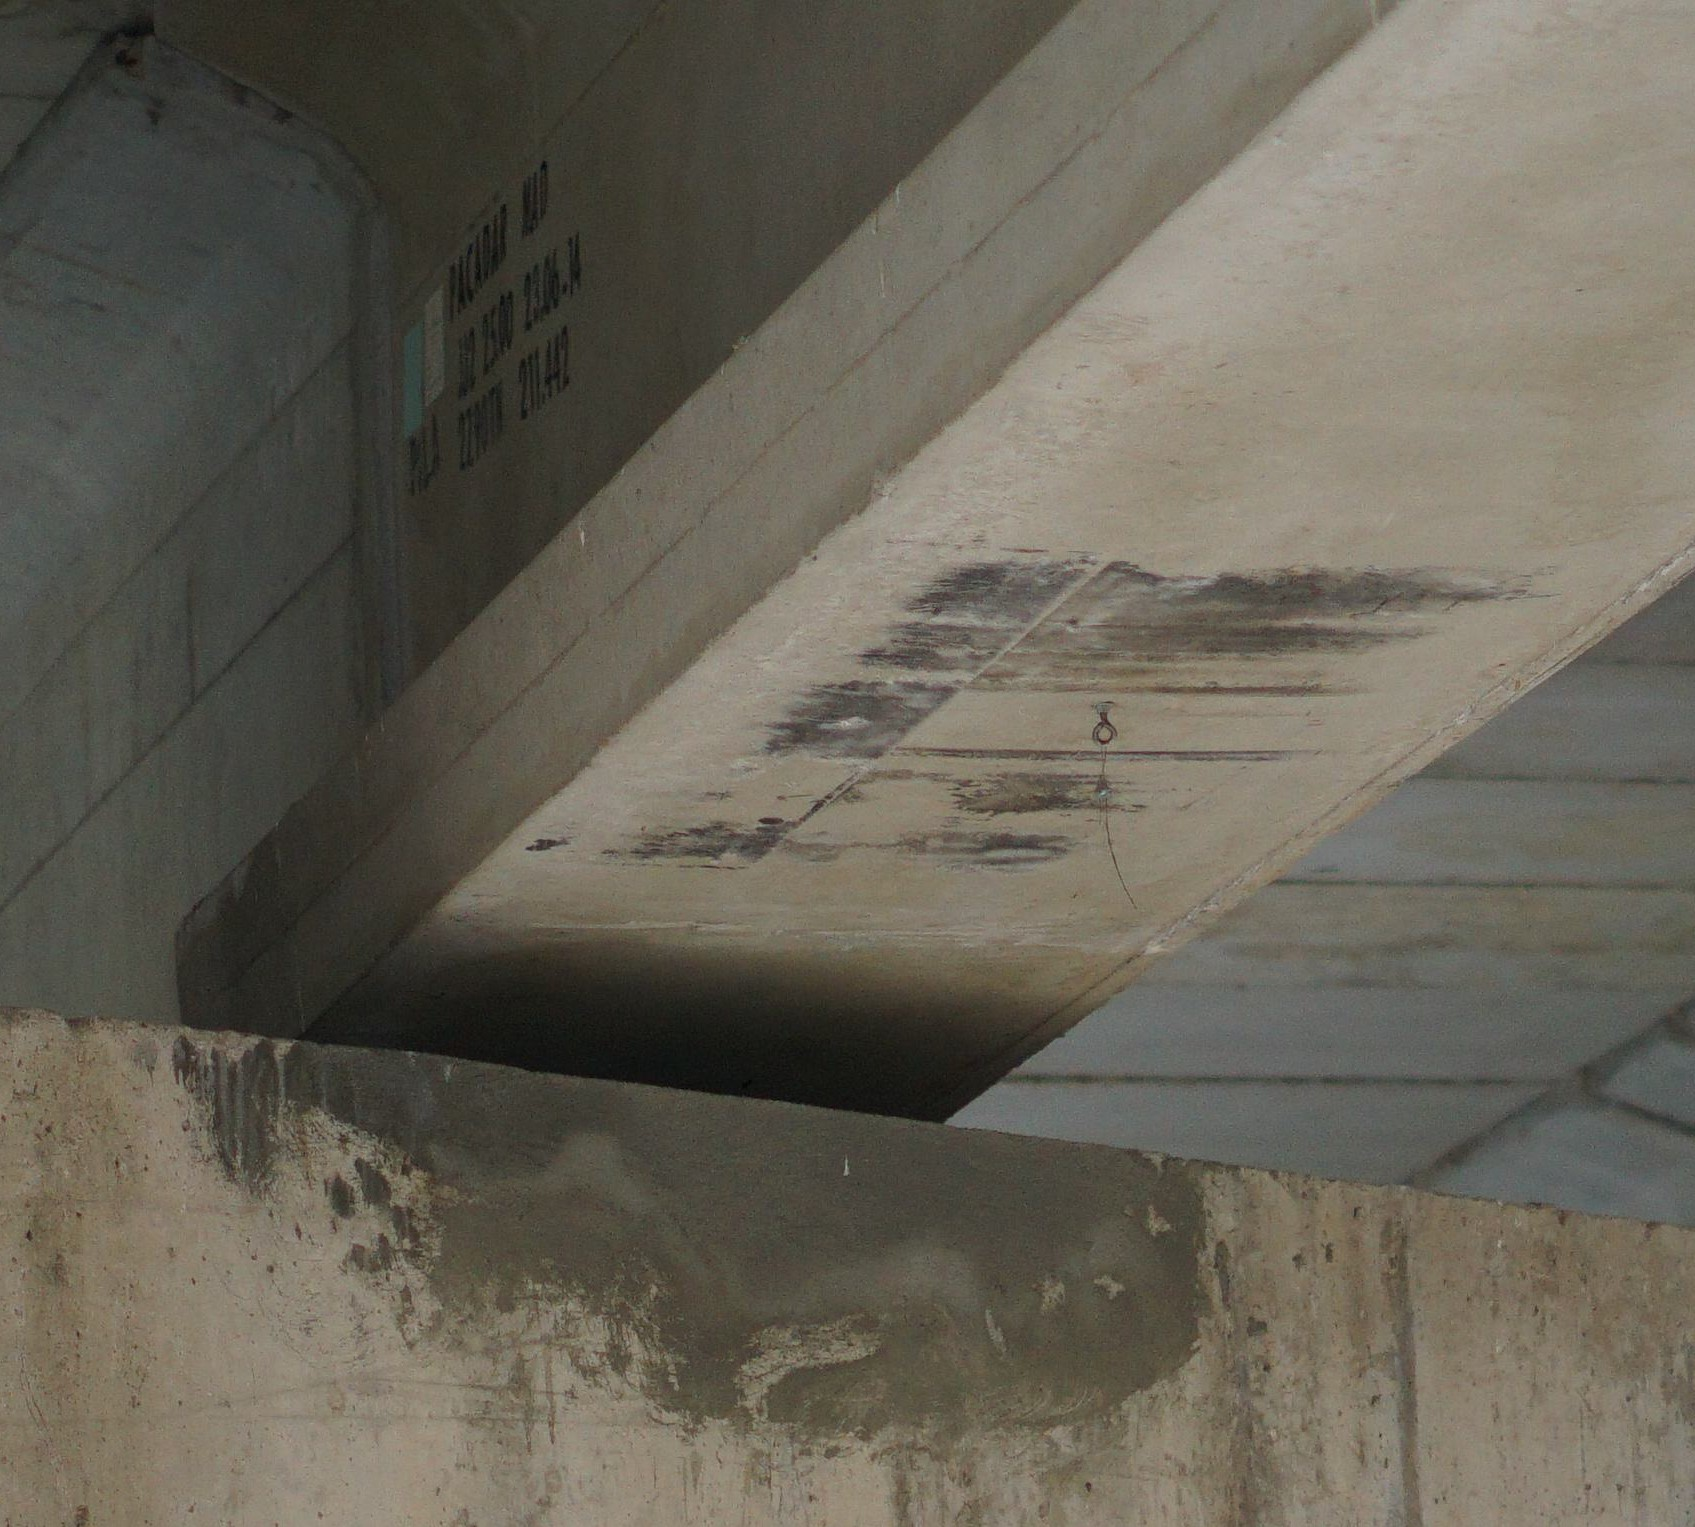Spalling: (167, 1032, 1209, 1440), (600, 559, 1537, 871), (525, 839, 570, 853)
